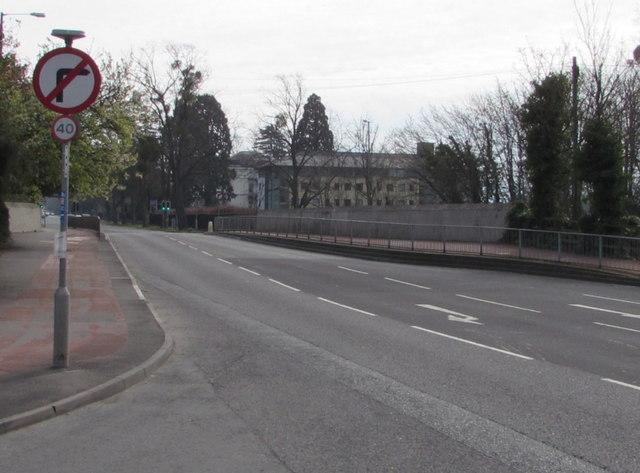no_right_turn: (32, 47, 101, 113)
